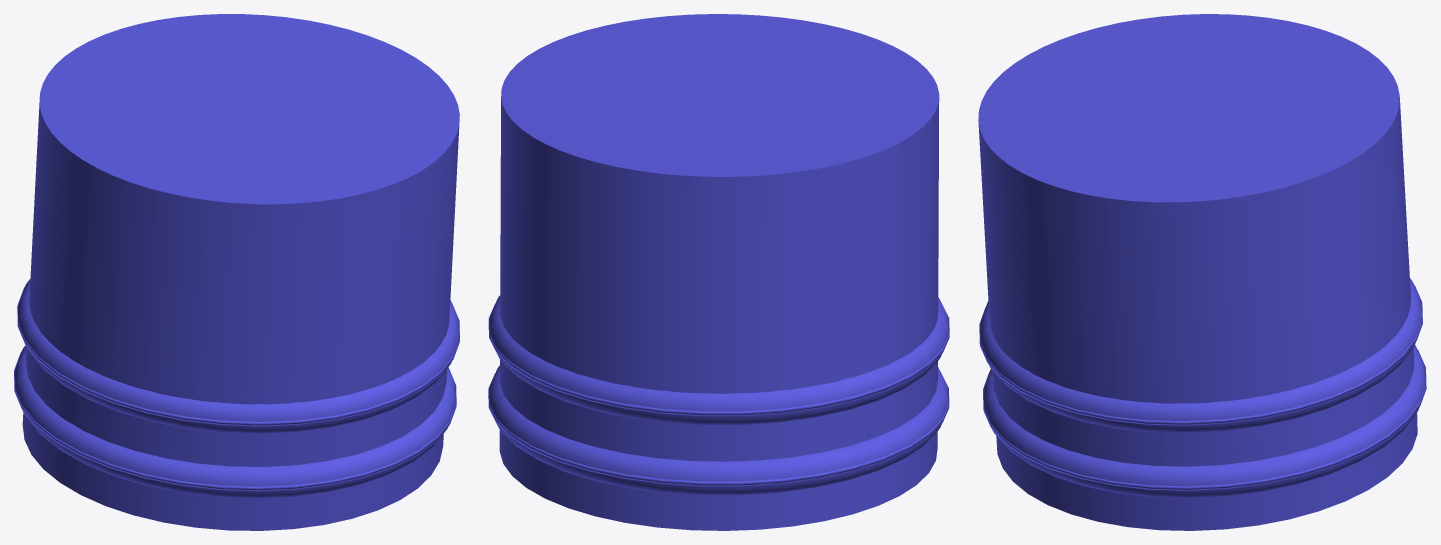
File: bombilla243.obj
The picture shows the model from 3 angles, left to right: view 1: azimuth 30°, elevation 25°; view 2: azimuth 150°, elevation 25°; view 3: azimuth 270°, elevation 25°; orthographic projection. The views are drawn at different scales.
Parts seen in each view (by area): view 1: Cylinder001, Cylinder004, Cylinder003, Cylinder002, Cylinder006; view 2: Cylinder001, Cylinder004, Cylinder003, Cylinder006, Cylinder002; view 3: Cylinder001, Cylinder004, Cylinder003, Cylinder002, Cylinder006.
Part boxes in pixels (<box>): Cylinder001: <box>29,14,459,404</box>; Cylinder004: <box>14,345,456,498</box>; Cylinder003: <box>26,348,446,466</box>; Cylinder002: <box>17,279,459,433</box>; Cylinder006: <box>22,413,443,530</box>; Cylinder001: <box>500,14,939,393</box>; Cylinder004: <box>488,365,949,495</box>; Cylinder003: <box>500,360,937,461</box>; Cylinder006: <box>499,430,937,530</box>; Cylinder002: <box>488,295,949,425</box>; Cylinder001: <box>978,14,1410,403</box>; Cylinder004: <box>983,345,1426,498</box>; Cylinder003: <box>992,348,1413,466</box>; Cylinder002: <box>979,278,1422,432</box>; Cylinder006: <box>996,413,1417,530</box>.
Bounding box in the file's own units: 72.31 × 63.26 × 72.69.
